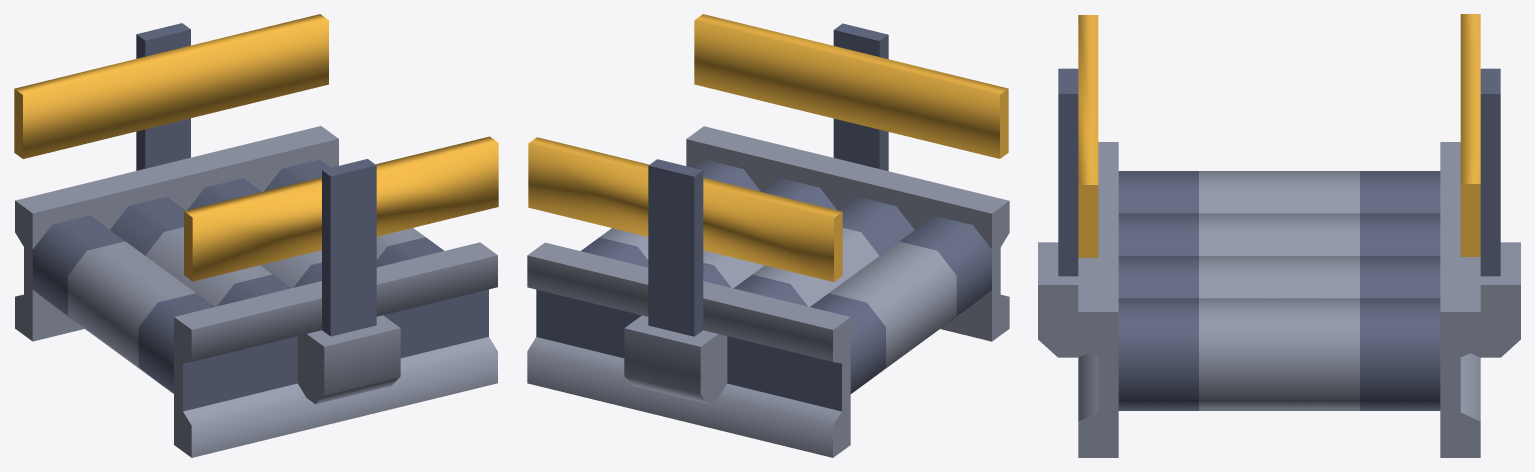
Rendered from conveyor-bars-stripe-fence.dae.
3 renders of one model, left to right at view 1: azimuth 30°, elevation 25°; view 2: azimuth 150°, elevation 25°; view 3: azimuth 270°, elevation 25°, orthographic. The views are drawn at different scales.
Visible parts, largest first — view 1: Group (×3); view 2: Group (×3); view 3: Group (×3).
Boxes of the visible parts, x1,y1,x2,y2 form: Group (×3): [14, 14, 498, 457]; Group (×3): [527, 14, 1009, 457]; Group (×3): [1038, 14, 1520, 457].
Size of the model in its own units: 1.01 by 0.8 by 1.2.
